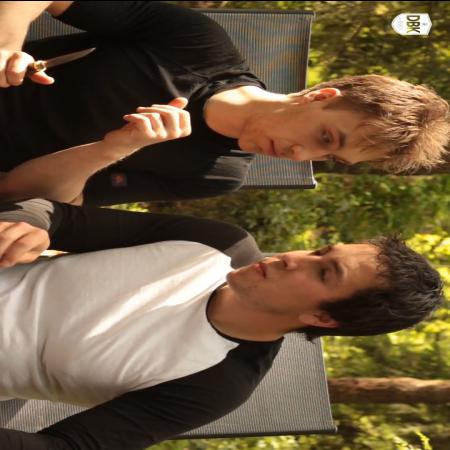long weapon: (1, 40, 108, 88)
